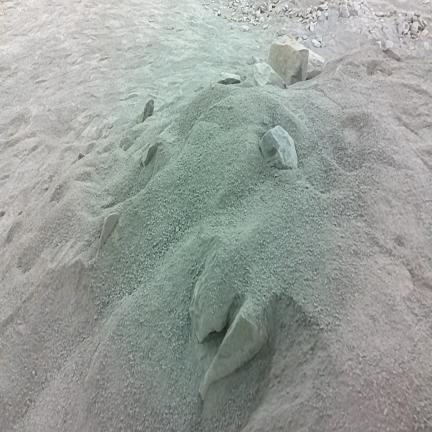Rock: (199, 300, 269, 400), (189, 254, 236, 343), (268, 36, 308, 85), (260, 126, 297, 169), (254, 63, 286, 88), (99, 213, 120, 250), (316, 9, 339, 33), (307, 50, 325, 79), (142, 144, 158, 166), (138, 99, 153, 122), (219, 73, 240, 84), (383, 49, 400, 61), (120, 137, 133, 150), (352, 2, 361, 16), (315, 35, 325, 47), (371, 28, 381, 40), (246, 54, 258, 64), (340, 5, 349, 17), (410, 22, 418, 35), (318, 3, 328, 11), (312, 39, 320, 47), (277, 29, 286, 36), (385, 41, 393, 48), (240, 25, 249, 31), (424, 41, 430, 50), (310, 22, 316, 31), (420, 30, 428, 36), (78, 153, 84, 159), (415, 10, 420, 17), (263, 24, 268, 30), (302, 35, 308, 40), (0, 211, 5, 217), (377, 41, 381, 48), (324, 12, 328, 19), (423, 0, 429, 4), (18, 211, 22, 215), (231, 25, 234, 29)
